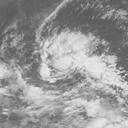cyclone: (39, 30, 103, 84)
